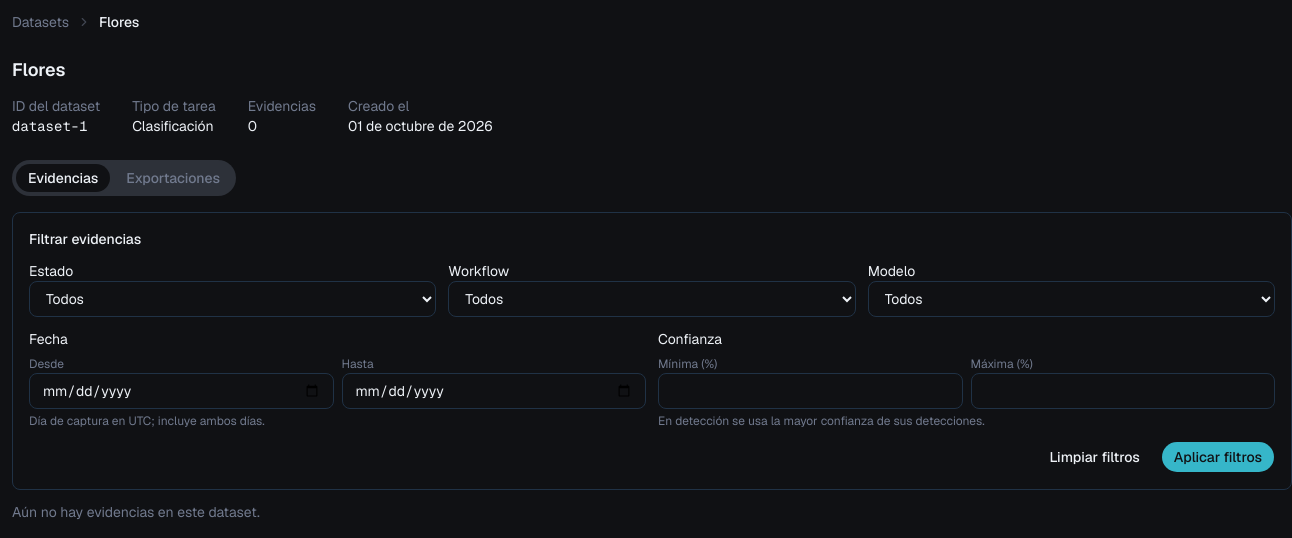
DatasetDetailView › shows the dataset metadata and evidence and export tabs
The image size is (1292, 538).
Check: the heading "Flores" is shown, box [12, 58, 65, 81]
Check: the text "dataset-1" is shown, box [12, 117, 88, 135]
Click the tab "Exportaciones". click: [173, 178]
box: [114, 164, 232, 192]
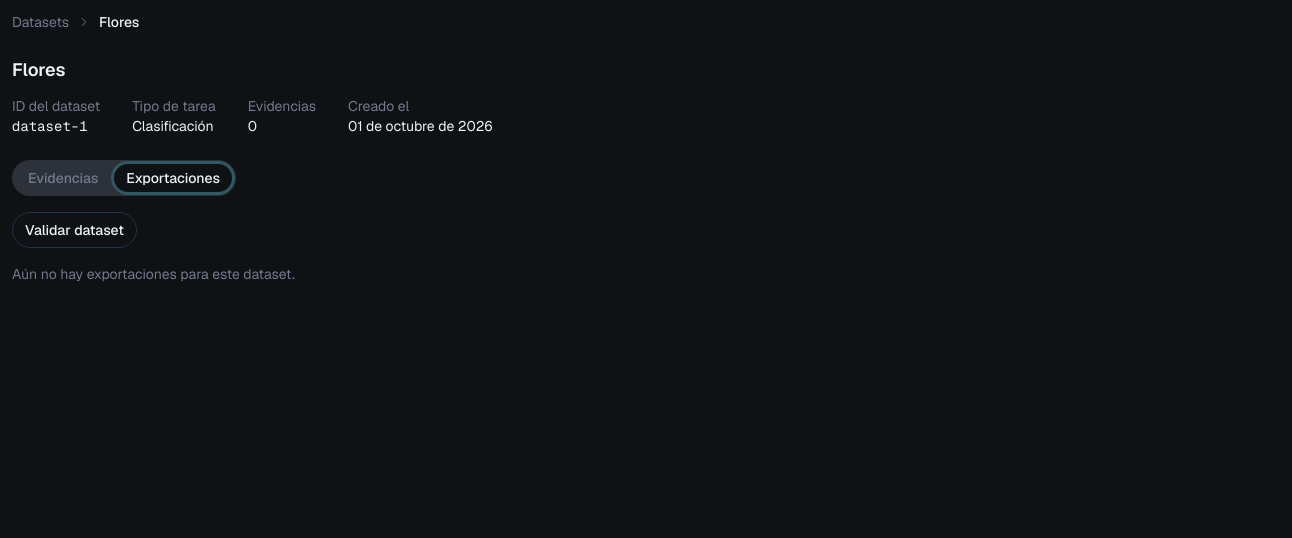
Check: the text "Aún no hay exportaciones para este dataset." is shown, box [12, 265, 295, 283]
